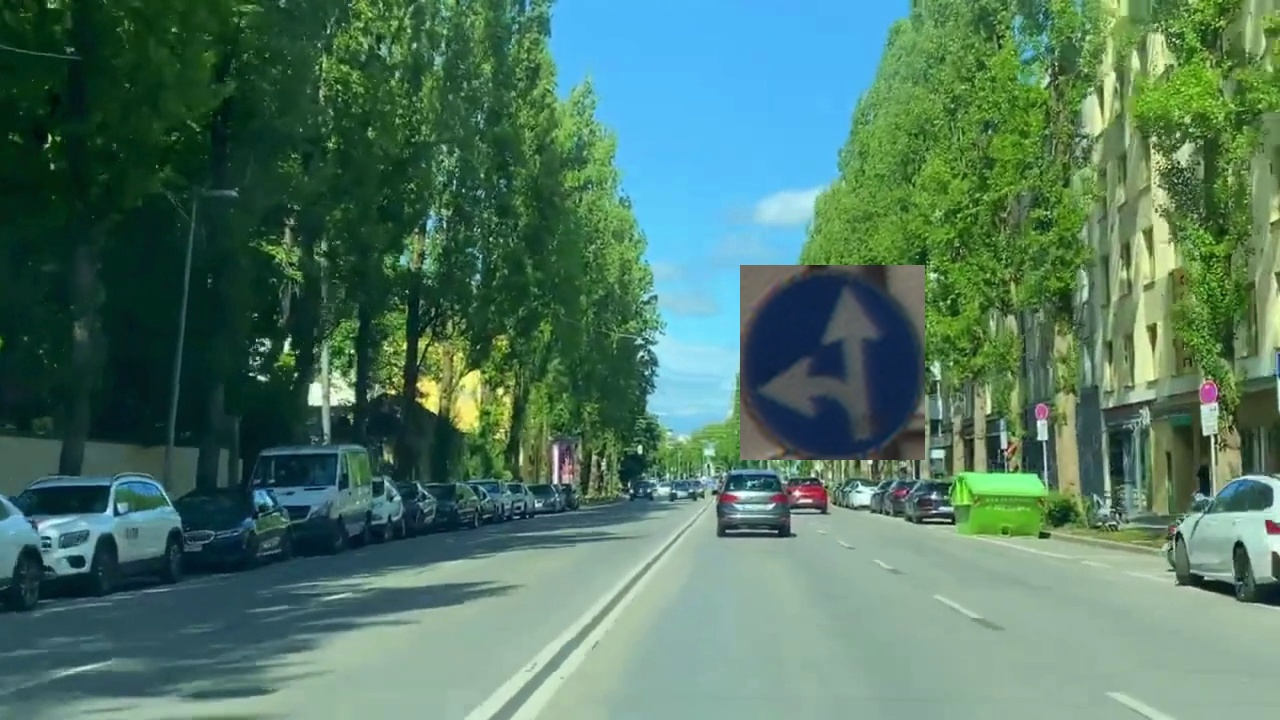Straight/left: (740, 265, 925, 460)
